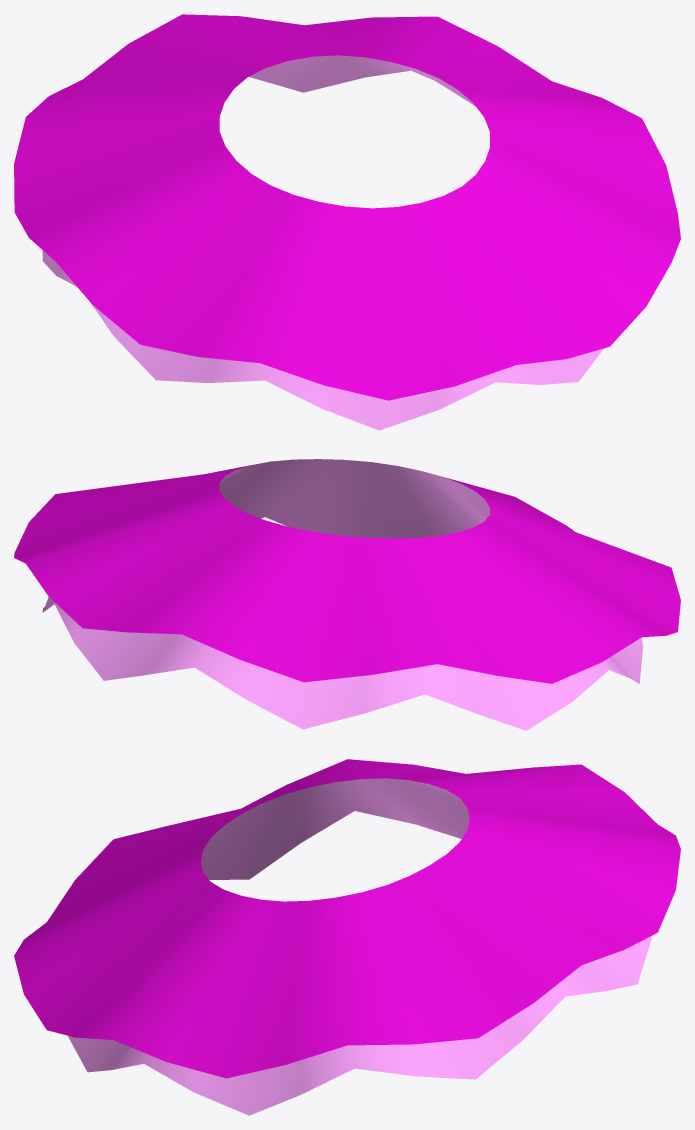
Rendered from tutu.fbx.
The picture shows the model from 3 angles, top to bottom: view 1: azimuth 30°, elevation 25°; view 2: azimuth 150°, elevation 25°; view 3: azimuth 270°, elevation 25°; orthographic projection.
Parts seen in each view (by area): view 1: Tutu; view 2: Tutu; view 3: Tutu.
Part boxes in pixels (<box>): Tutu: <box>14,14,680,430</box>; Tutu: <box>14,459,680,730</box>; Tutu: <box>14,759,680,1115</box>.
Bounding box in the file's own units: 589 × 197 × 580.
